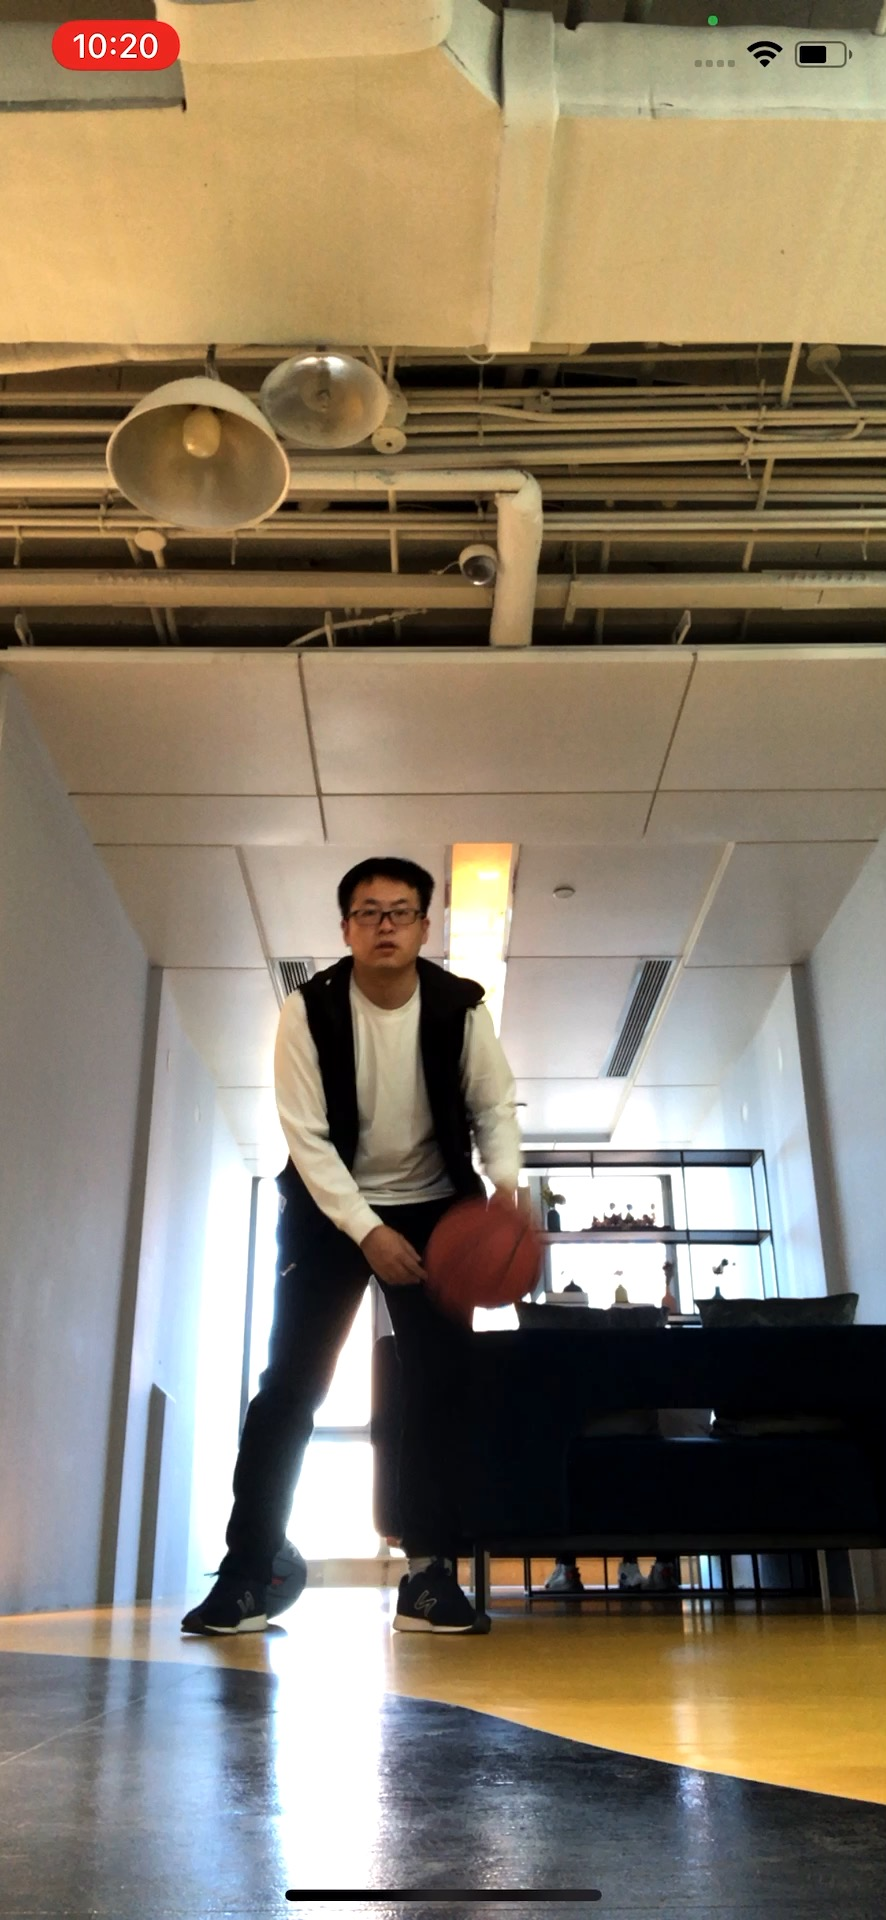ball: (431, 1200, 549, 1307)
